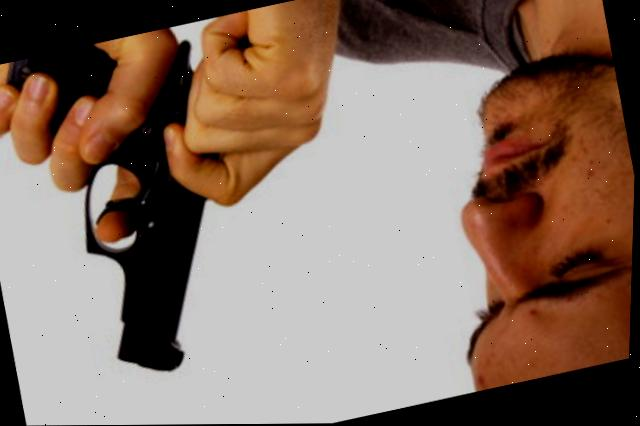pistol: (0, 12, 303, 414)
